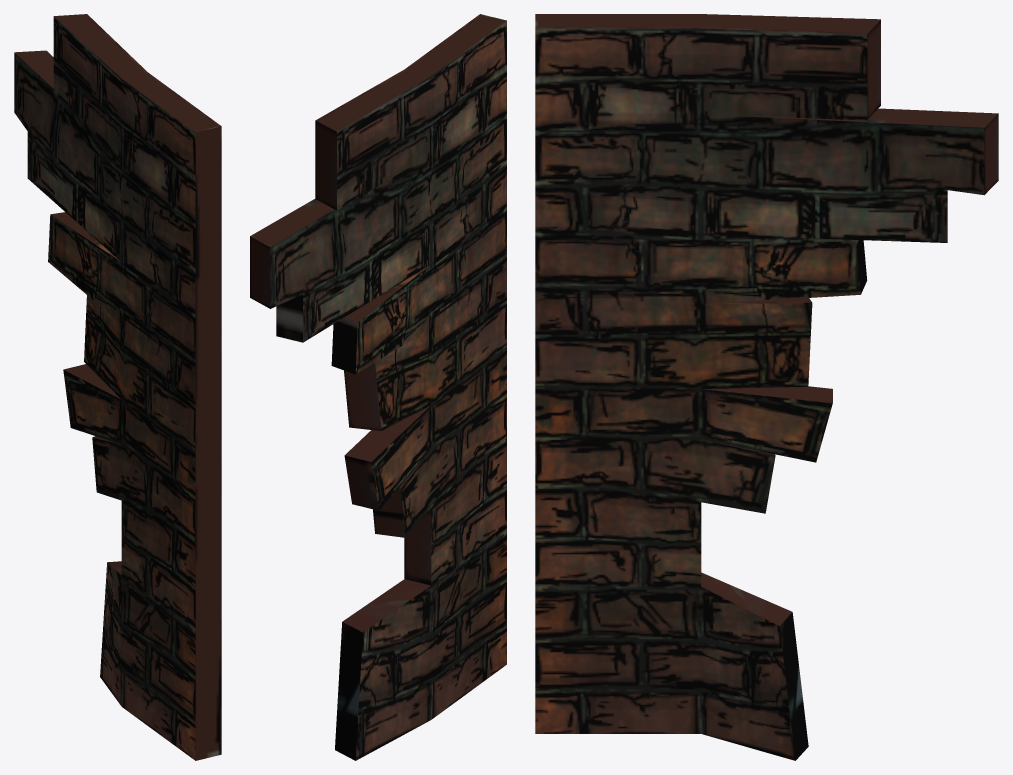
Rendered from BrickBldHoleVer_3.fbx.
3 views of the same model, side by side, from view 1: azimuth 30°, elevation 25°; view 2: azimuth 150°, elevation 25°; view 3: azimuth 270°, elevation 25° (orthographic). The views are drawn at different scales.
Visible parts, largest first — view 1: pCube703; view 2: pCube703; view 3: pCube703.
Part boxes in pixels (left/top/right/bottom): pCube703: left=14, top=14, right=221, bottom=760; pCube703: left=250, top=14, right=506, bottom=760; pCube703: left=535, top=14, right=998, bottom=760.
Size of the model in its own units: 0.9975 by 11.73 by 6.84.
